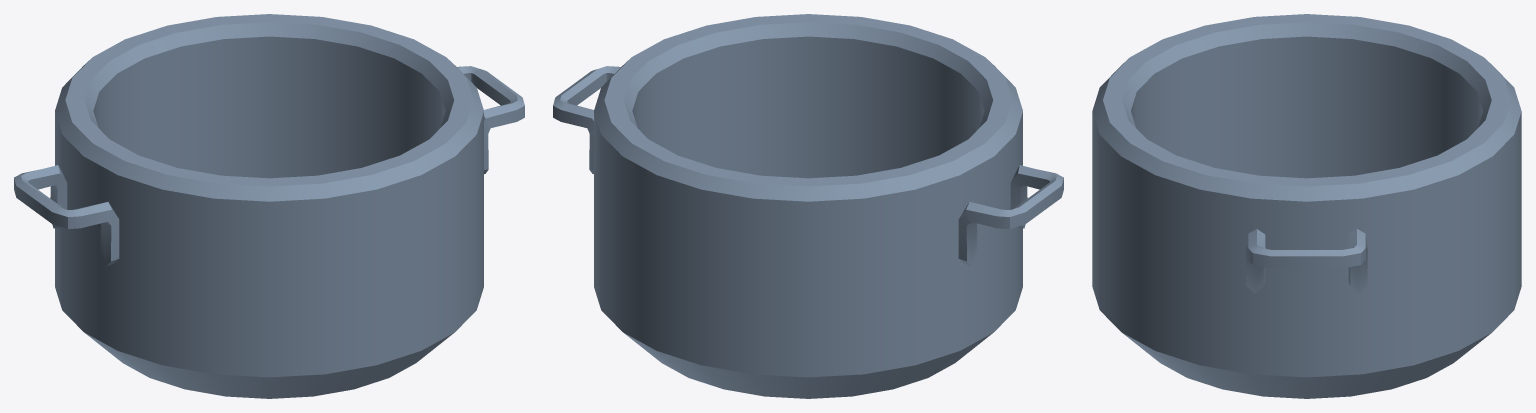
Rendered from Environment_Pot_1_Empty.fbx.
3 views of the same model, side by side, from view 1: azimuth 30°, elevation 25°; view 2: azimuth 150°, elevation 25°; view 3: azimuth 270°, elevation 25° (orthographic).
Visible parts, largest first — view 1: Environment_Pot_1_Empty; view 2: Environment_Pot_1_Empty; view 3: Environment_Pot_1_Empty.
Part boxes in pixels (x1=…): Environment_Pot_1_Empty: x1=14, y1=14, x2=524, y2=398; Environment_Pot_1_Empty: x1=553, y1=14, x2=1063, y2=398; Environment_Pot_1_Empty: x1=1092, y1=14, x2=1521, y2=398.
Size of the model in its own units: 158 by 73.1 by 125.
